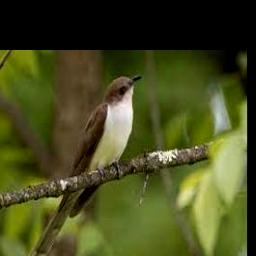Cuckoo: (20, 74, 143, 256)
